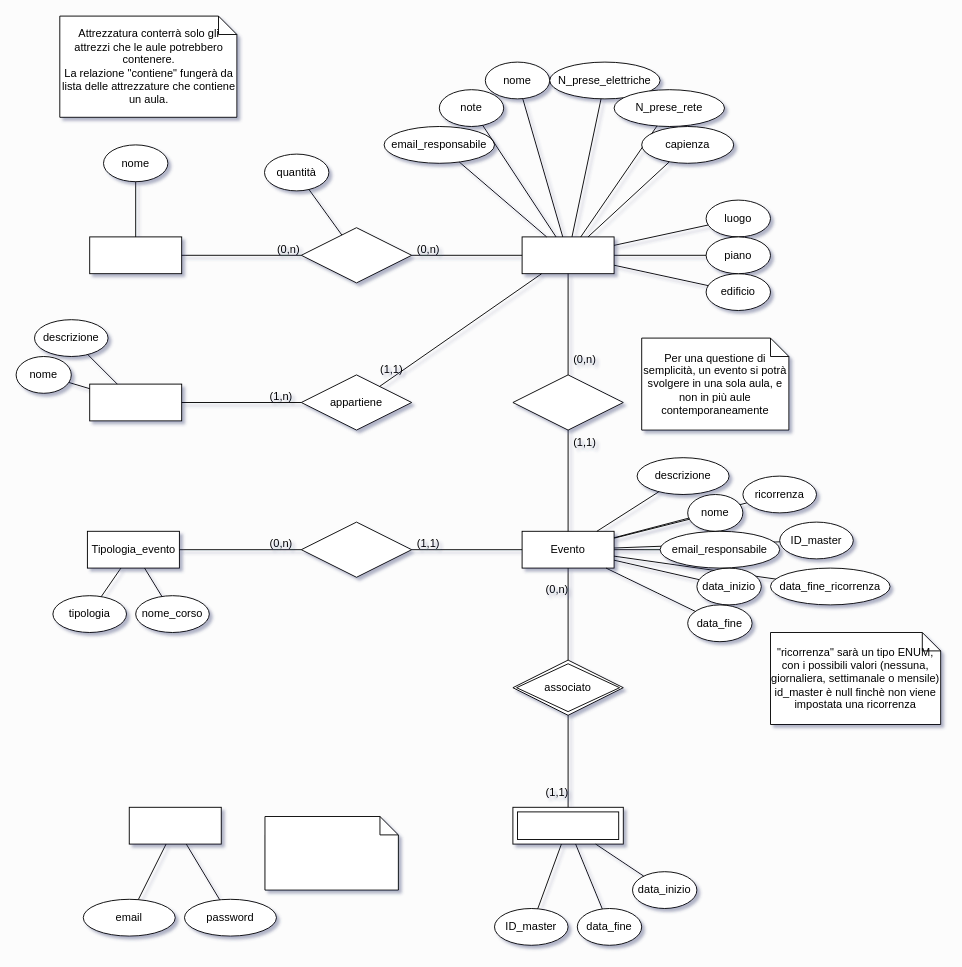
The diagram is 962 pixels wide and 967 high, and some of its shapes have lost their labels. The box of each missing label's shape, as (x1, y1, x2, y2) in pixels:
Amministratore: (128, 806, 221, 844)
Attrezzatura: (89, 236, 182, 274)
Aula: (521, 236, 614, 274)
contiene: (300, 227, 412, 283)
corrisponde: (300, 521, 412, 577)
Evento_Ricorrente: (512, 806, 623, 844)
Gruppo: (89, 383, 182, 421)
L'amministratore è un utente caratterizzato solo dalle sue credenziali: (264, 816, 398, 890)
svolge: (512, 374, 623, 430)
